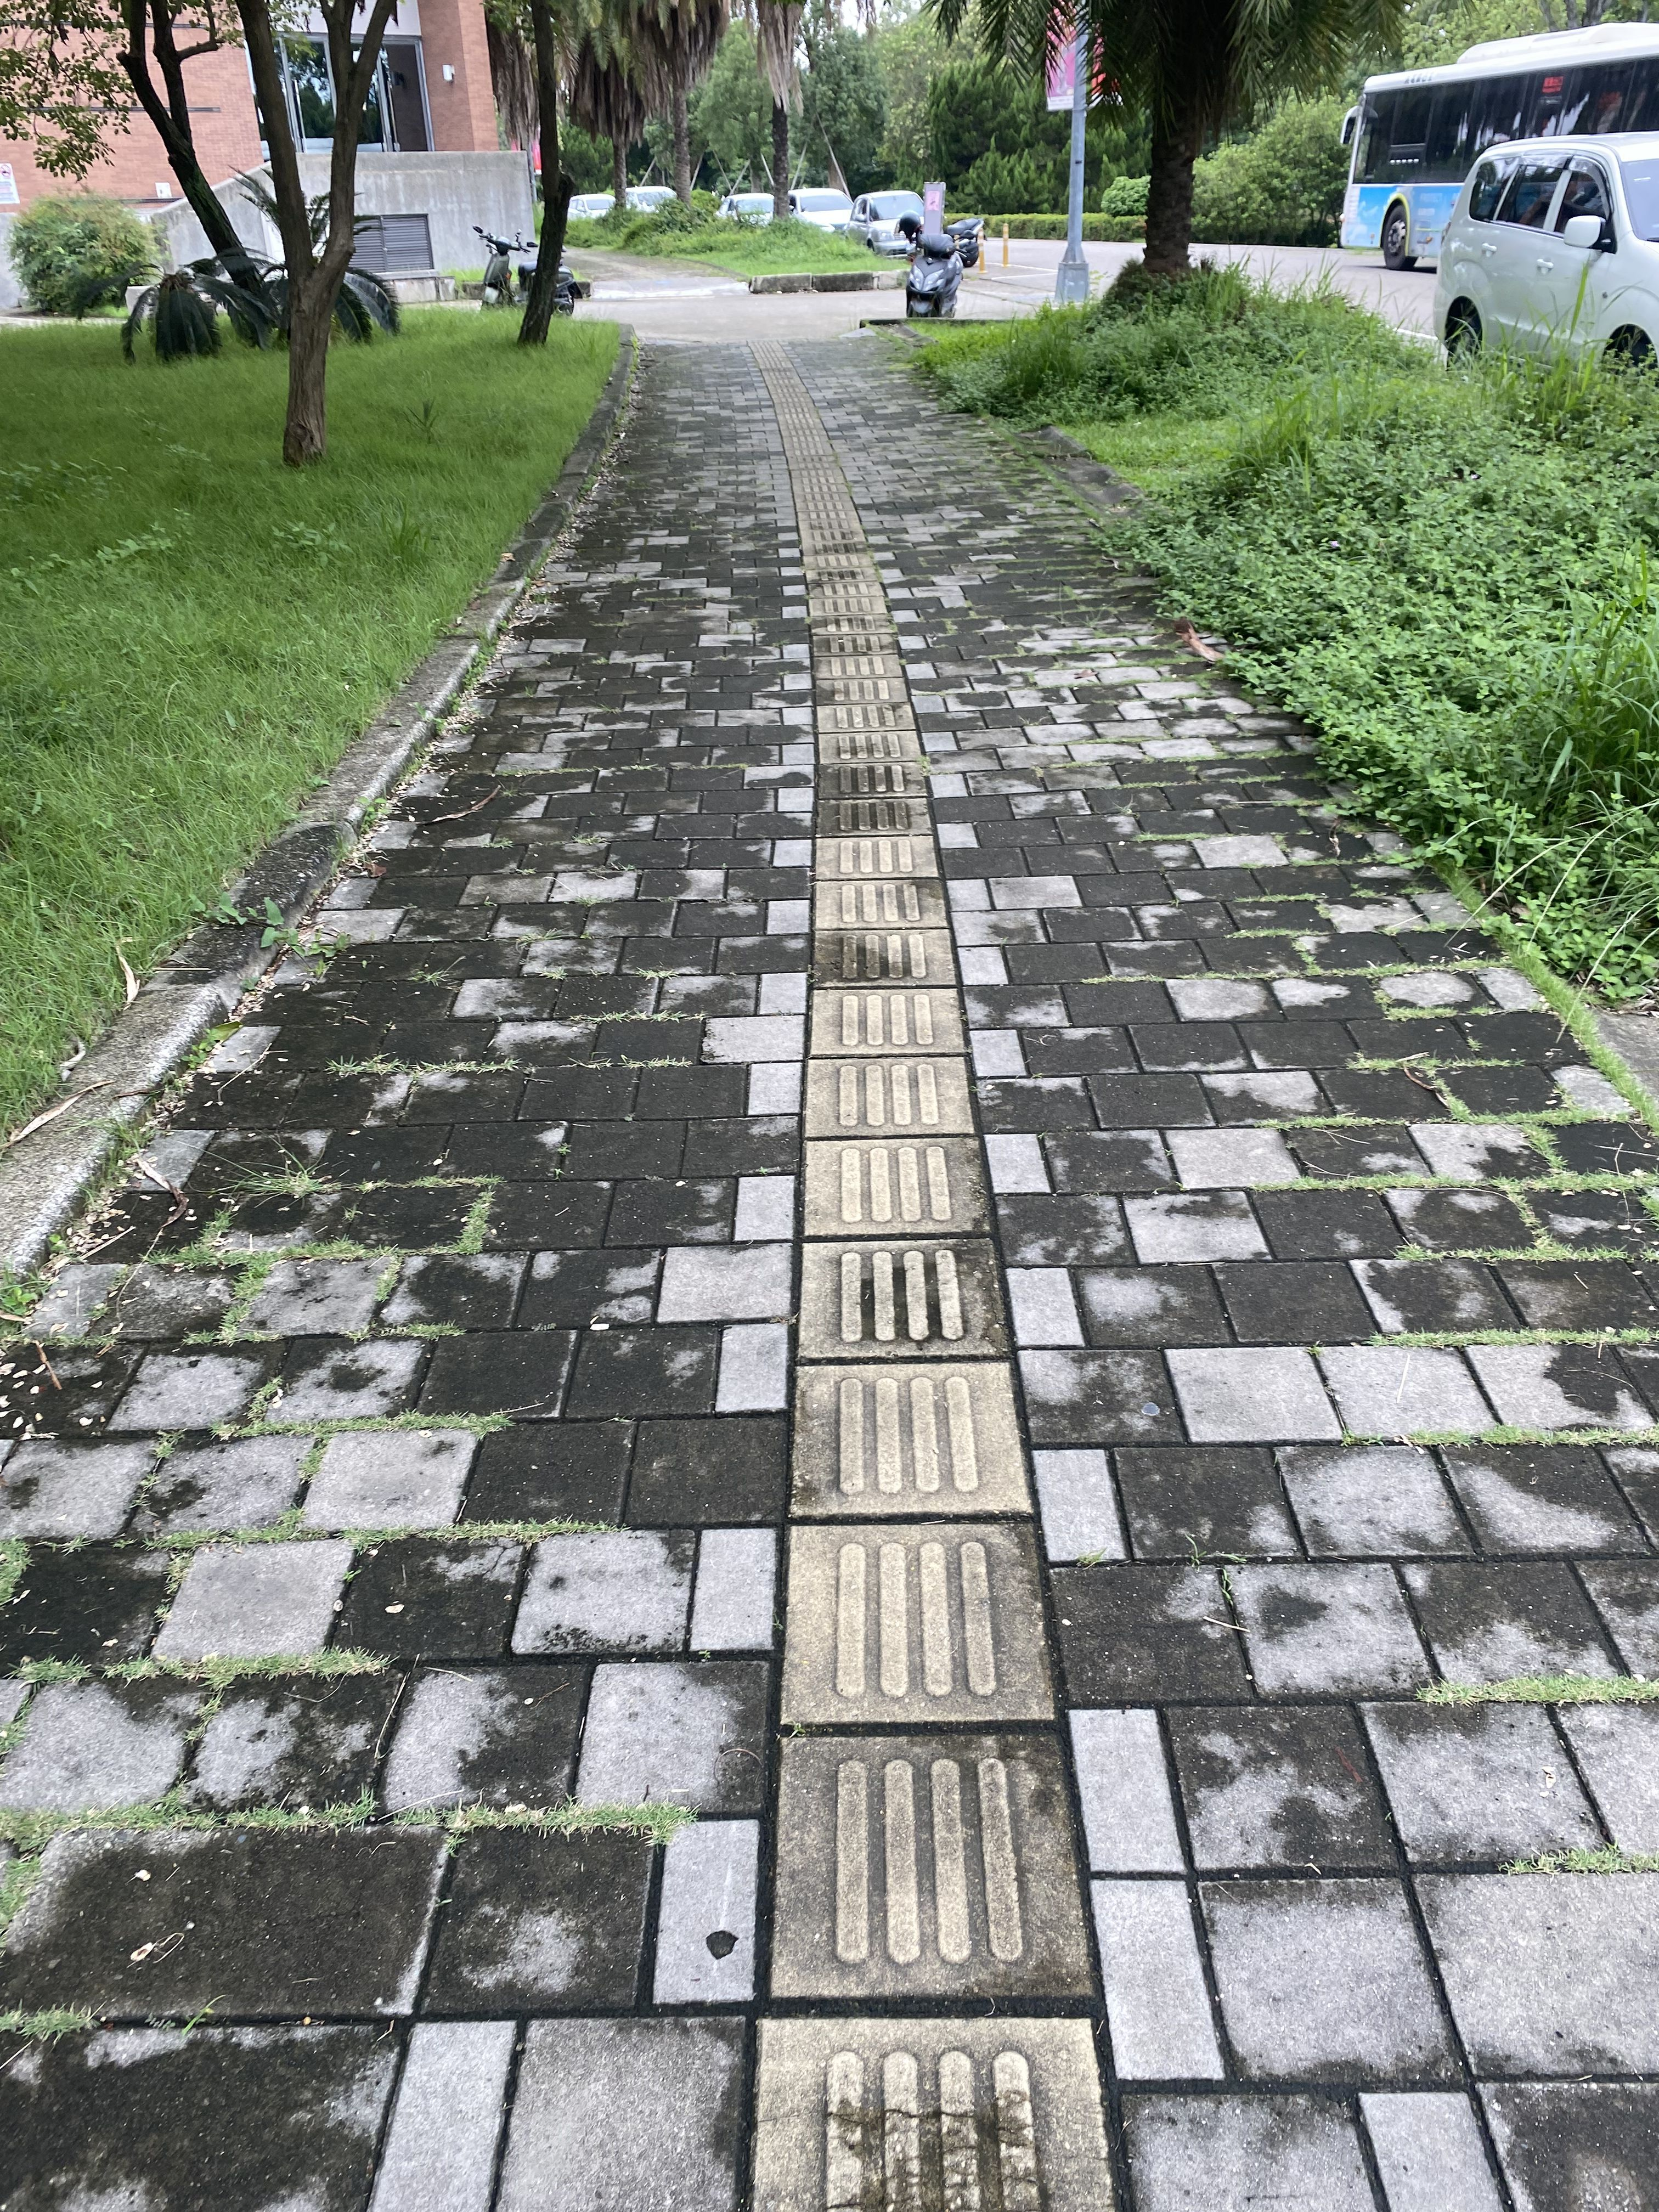sidewalk: (0, 308, 1659, 2212)
